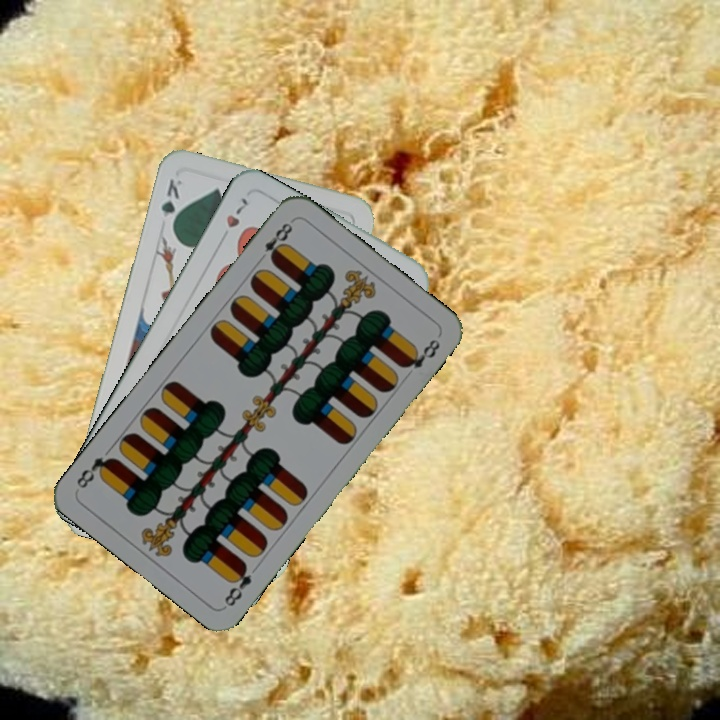E8: (253, 218, 296, 266), (220, 558, 254, 609)
GK: (157, 174, 185, 232)
H7: (215, 193, 251, 245)
